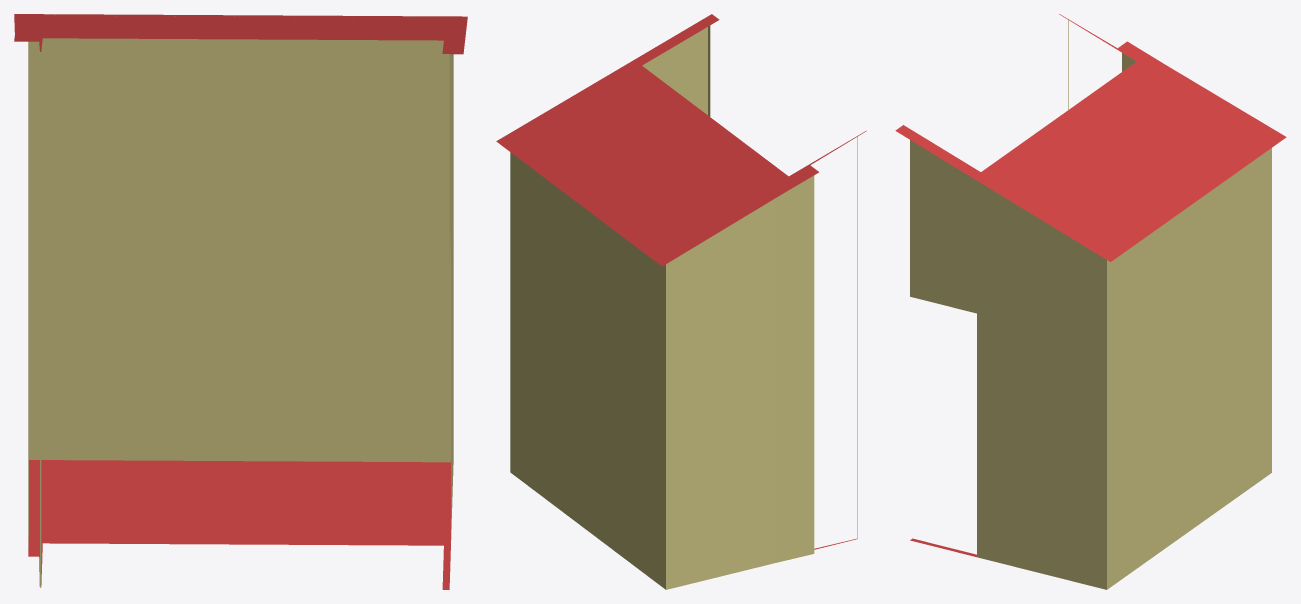
3 renders of one model, left to right at view 1: azimuth 30°, elevation 25°; view 2: azimuth 150°, elevation 25°; view 3: azimuth 270°, elevation 25°, orthographic. The views are drawn at different scales.
Bounding box in the file's own units: 9.44 × 9.14 × 10.59.
